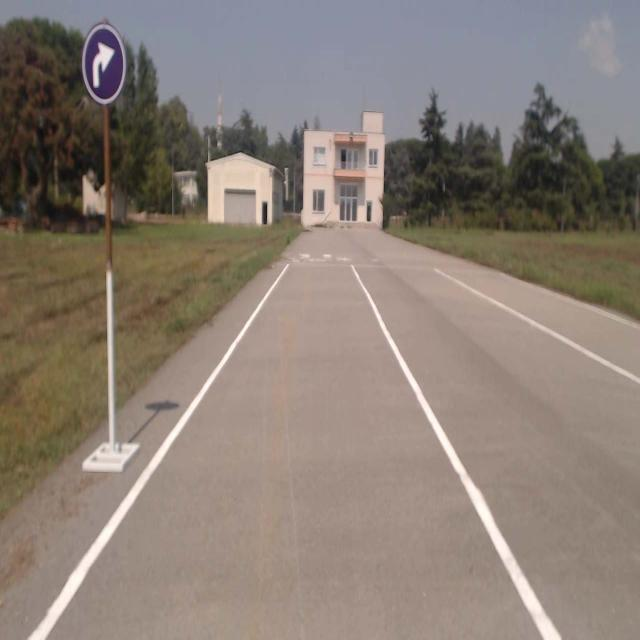sag: (81, 23, 127, 106)
